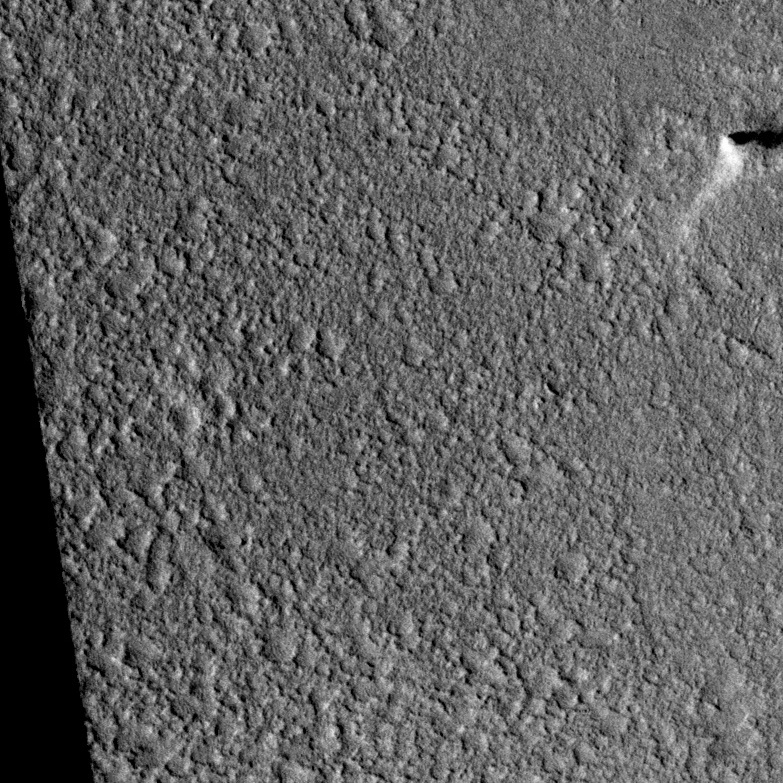dust_devil: (717, 127, 783, 176)
